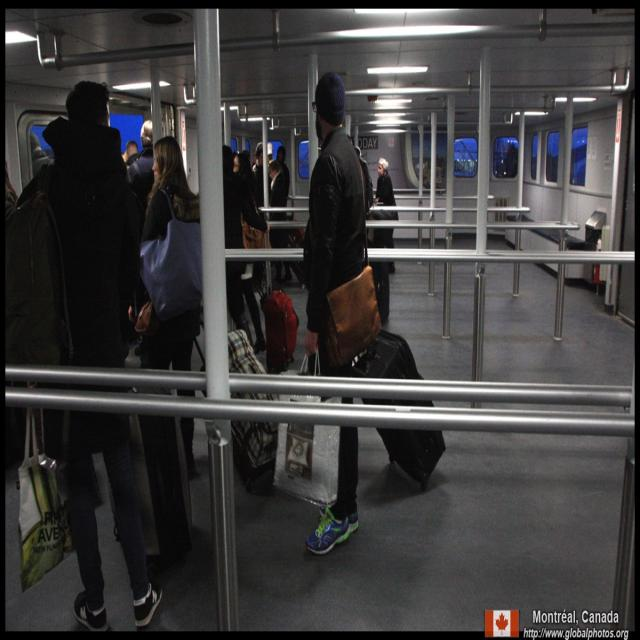body: (42, 78, 164, 634), (300, 69, 369, 556), (125, 134, 204, 478), (219, 145, 265, 355), (370, 153, 402, 282), (3, 155, 18, 423), (266, 157, 293, 285), (127, 117, 155, 213), (249, 140, 267, 250), (352, 146, 374, 227), (26, 128, 53, 178), (491, 134, 520, 180), (275, 143, 291, 207), (120, 135, 138, 175), (266, 142, 275, 162), (344, 127, 353, 145)
